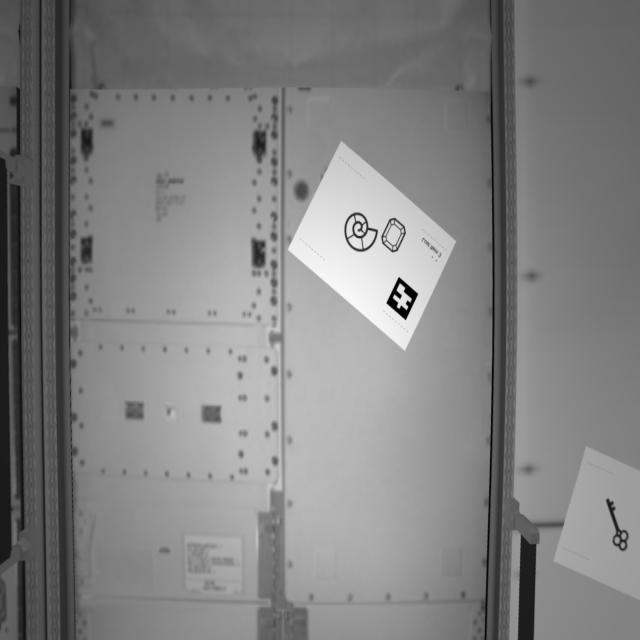emerald: (381, 212, 410, 258)
fossil: (337, 207, 381, 258)
key: (605, 490, 634, 562)
